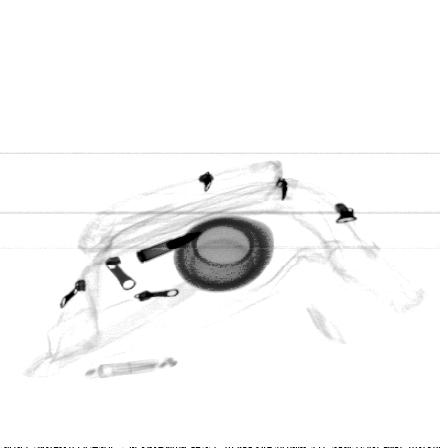Bullet: (135, 231, 209, 265)
